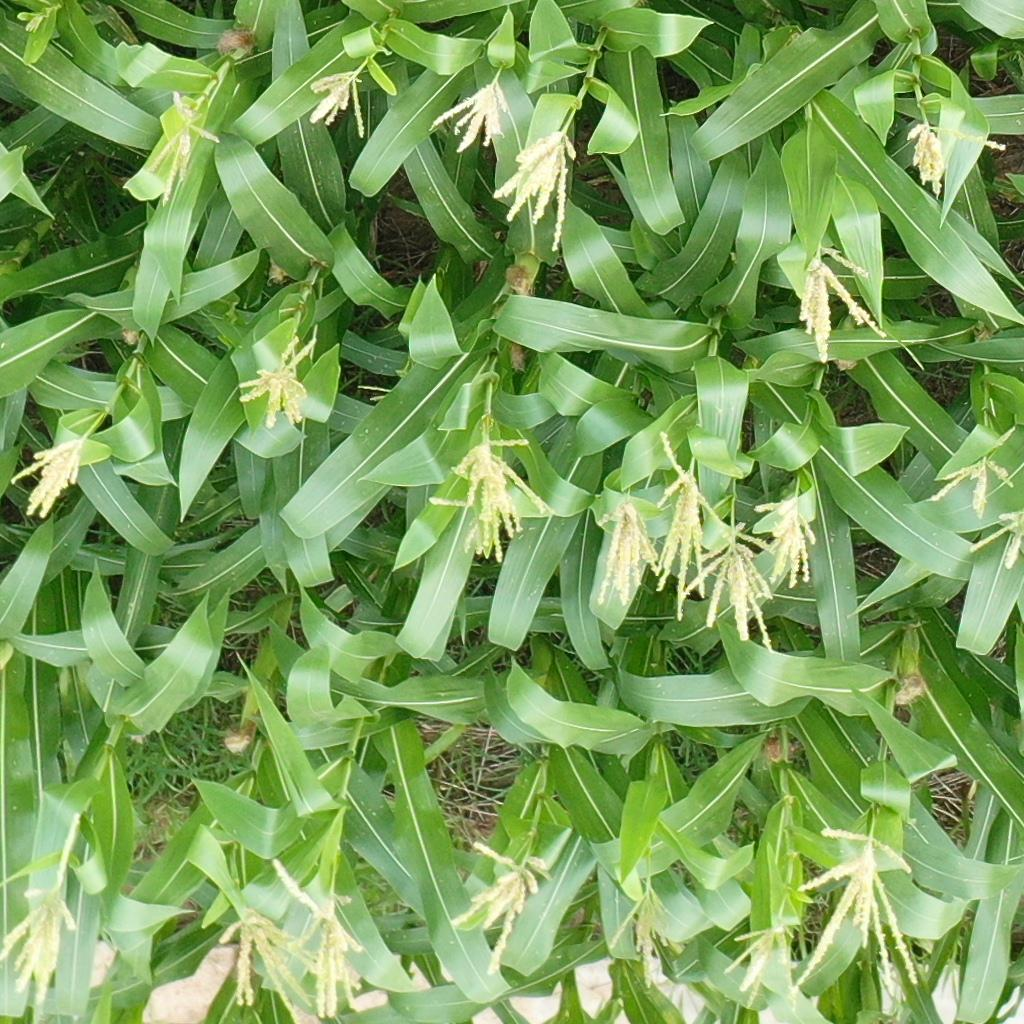Tassel: (661, 429, 775, 656), (793, 821, 923, 999), (426, 434, 553, 564), (270, 855, 366, 1020), (1, 813, 81, 1007), (447, 841, 547, 977), (212, 906, 317, 1024), (795, 244, 890, 361), (492, 132, 578, 256), (142, 88, 224, 213), (588, 488, 667, 611), (922, 425, 1017, 520), (610, 877, 688, 990), (656, 459, 709, 622), (718, 916, 802, 1015), (232, 336, 319, 430), (905, 121, 1005, 200), (751, 495, 822, 589), (8, 438, 86, 519), (432, 79, 509, 152), (309, 73, 368, 136), (968, 508, 1024, 571), (24, 14, 45, 35)
